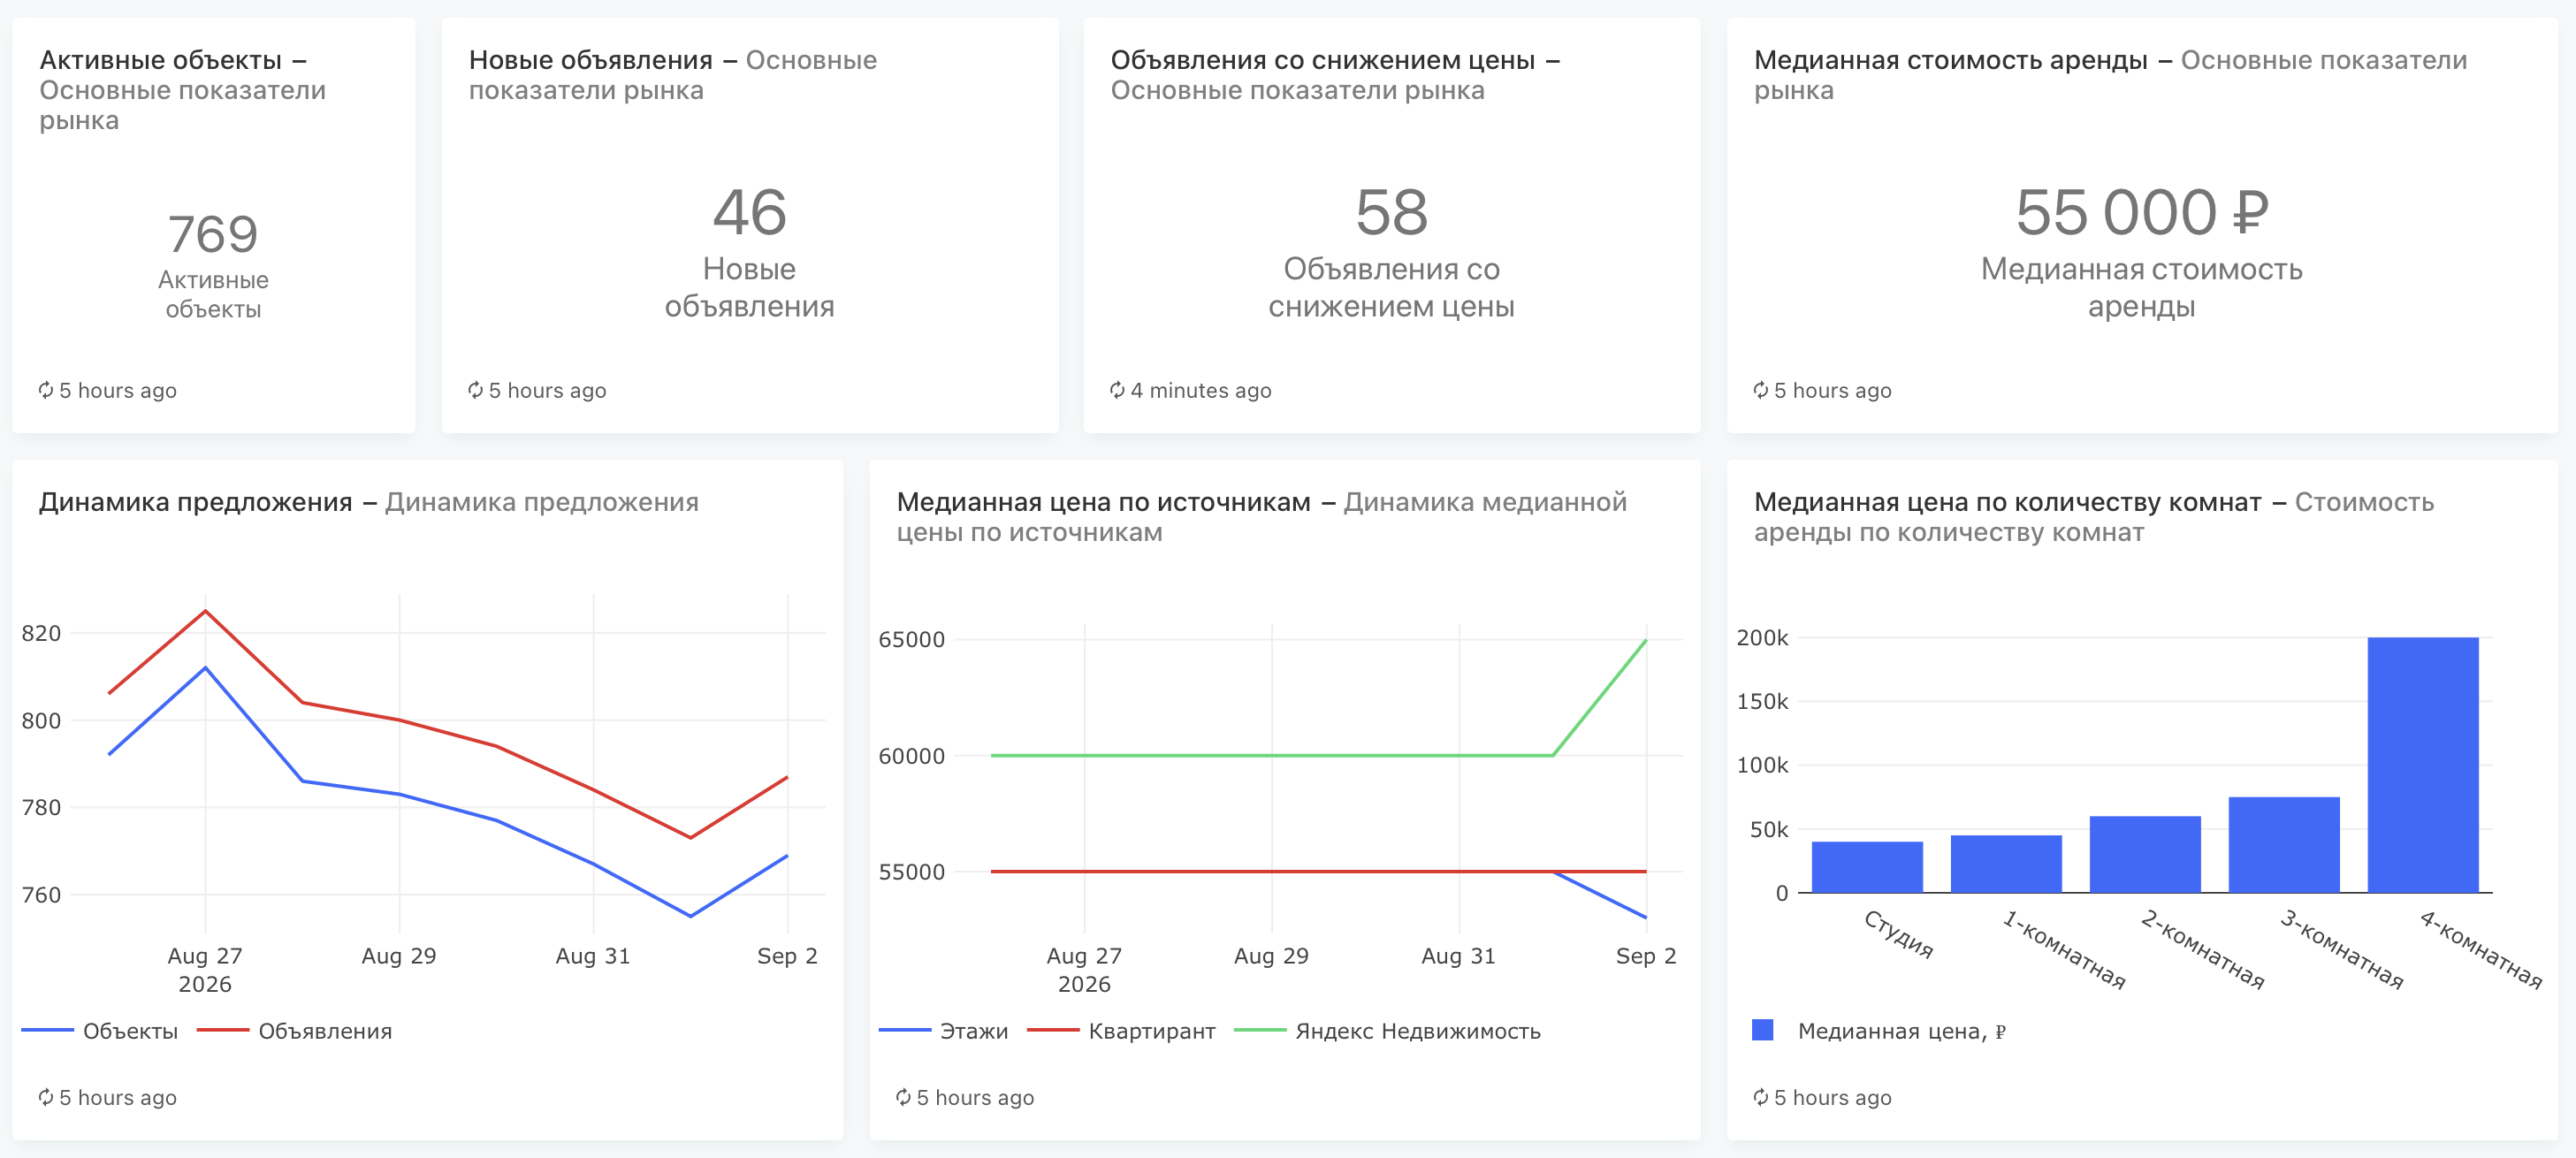

The page's visual inventory and layout, read from the dashboard file:
{"tool":"powerbi","page":{"name":"Market Overview","canvas":[1920,1080],"ordinal":0},"visuals":[{"type":"lineChart","title":"Supply Dynamics","fields":{"Category":["marts market_daily.snapshot_date"],"Y":["Sum(marts market_daily.property_count)","Sum(marts market_daily.listing_count)"]},"box":[1000,31.7,886.7,476.7],"z":0},{"type":"lineChart","title":"Median Rent by Sorce, RUB","fields":{"Category":["marts source_daily.snapshot_date"],"Series":["marts source_daily.Source Name"],"Y":["Sum(marts source_daily.median_monthly_rent)"]},"box":[1000,540,886.7,476.7],"z":1000},{"type":"clusteredColumnChart","title":"Median Rent by Number of Rooms, RUB","fields":{"Category":["marts market_daily.Room Type"],"Y":["marts market_daily.Median Rent by Room"]},"box":[38.3,540,886.7,476.7],"z":2000},{"type":"cardVisual","fields":{"Data":["marts listing_lifecycle.Activve Properties"]},"box":[38.3,31.7,886.7,96.7],"z":3000},{"type":"cardVisual","fields":{"Data":["marts listing_lifecycle.New Listings"]},"box":[38.3,155,886.7,96.7],"z":4000},{"type":"cardVisual","fields":{"Data":["marts listing_lifecycle.Listings with Price Reductions"]},"box":[38.3,411.7,886.7,96.7],"z":5000},{"type":"cardVisual","fields":{"Data":["marts listing_lifecycle.Median Monthly Rent"]},"box":[38.3,283.3,886.7,96.7],"z":6000}]}

Visuals, with their boxes on the page's 1920x1080 design canvas (x1, y1, x2, y2). These are canvas units, not pixel positions in the 2576x1158 screenshot, which may show the page scaled, cropped or inside an application window:
"Supply Dynamics" lineChart: locate(1000, 32, 1887, 508)
"Median Rent by Sorce, RUB" lineChart: locate(1000, 540, 1887, 1017)
"Median Rent by Number of Rooms, RUB" clusteredColumnChart: locate(38, 540, 925, 1017)
cardVisual - marts listing_lifecycle.Activve Properties: locate(38, 32, 925, 128)
cardVisual - marts listing_lifecycle.New Listings: locate(38, 155, 925, 252)
cardVisual - marts listing_lifecycle.Listings with Price Reductions: locate(38, 412, 925, 508)
cardVisual - marts listing_lifecycle.Median Monthly Rent: locate(38, 283, 925, 380)
